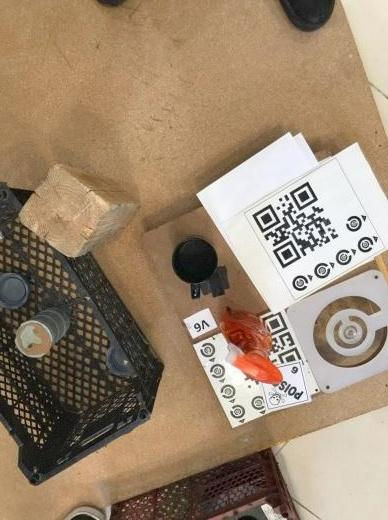poison: (261, 361, 309, 410)
